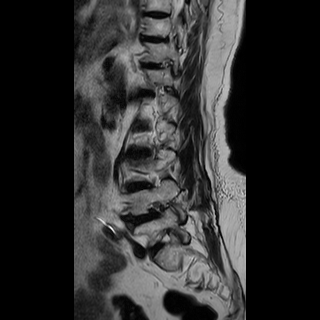LFS3: (142, 194, 172, 226)
